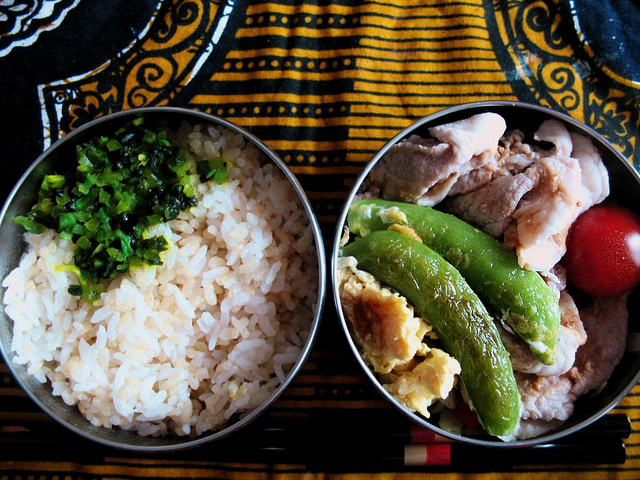chopped lettuce: (24, 135, 234, 279)
plain rice: (14, 172, 314, 440)
